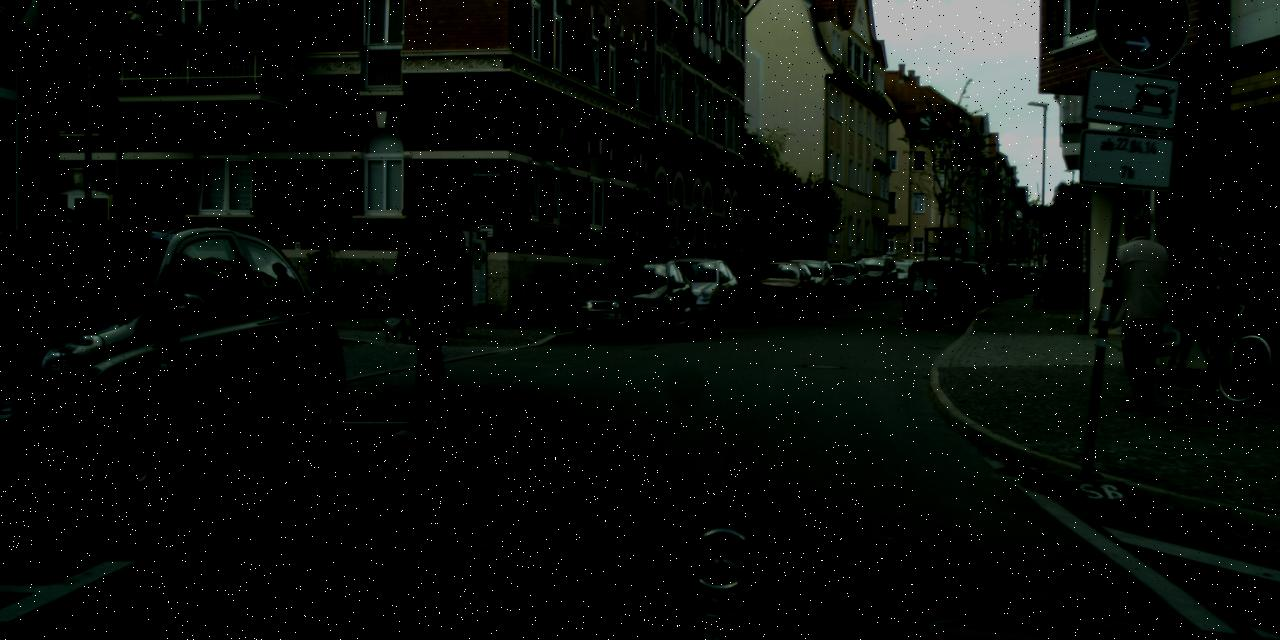ped: (387, 193, 484, 431), (108, 188, 202, 420), (1100, 215, 1180, 412), (446, 282, 466, 334)
